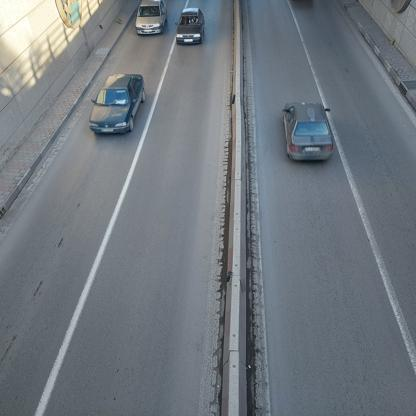Car: (278, 99, 337, 166), (93, 78, 136, 132), (177, 9, 204, 54), (135, 4, 169, 36)
